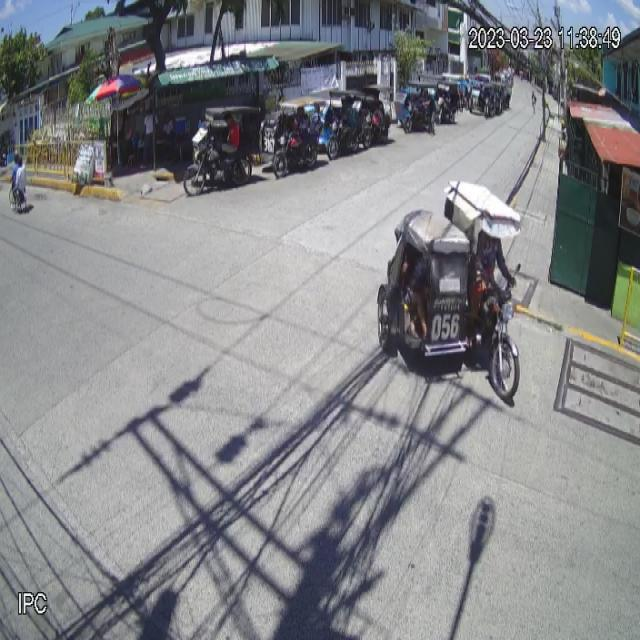Tricycle: (376, 180, 521, 400)
